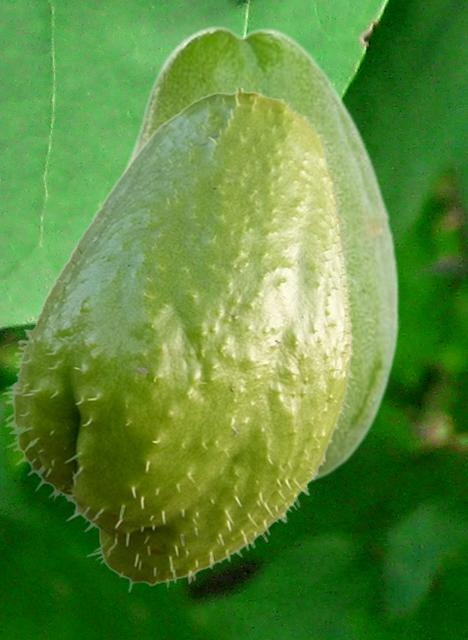sayote: (1, 88, 356, 591), (117, 24, 399, 486)
